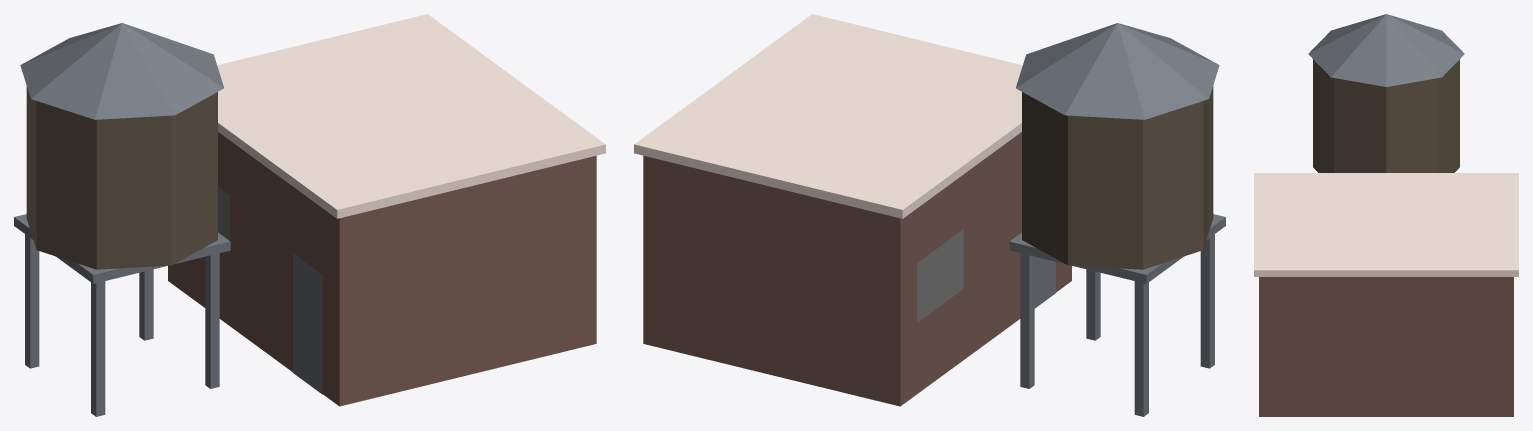
The model's file is roofprop.fbx.
3 renders of one model, left to right at view 1: azimuth 30°, elevation 25°; view 2: azimuth 150°, elevation 25°; view 3: azimuth 270°, elevation 25°, orthographic. The views are drawn at different scales.
Visible parts, largest first — view 1: a2007/500/roofprop; view 2: a2007/500/roofprop; view 3: a2007/500/roofprop.
Boxes of the visible parts, box(x1,y1,x2,y2) form: a2007/500/roofprop: box(14, 14, 605, 416); a2007/500/roofprop: box(634, 14, 1225, 416); a2007/500/roofprop: box(1254, 14, 1518, 416).
Bounding box in the file's own units: 8.5 × 5.9 × 5.4.
